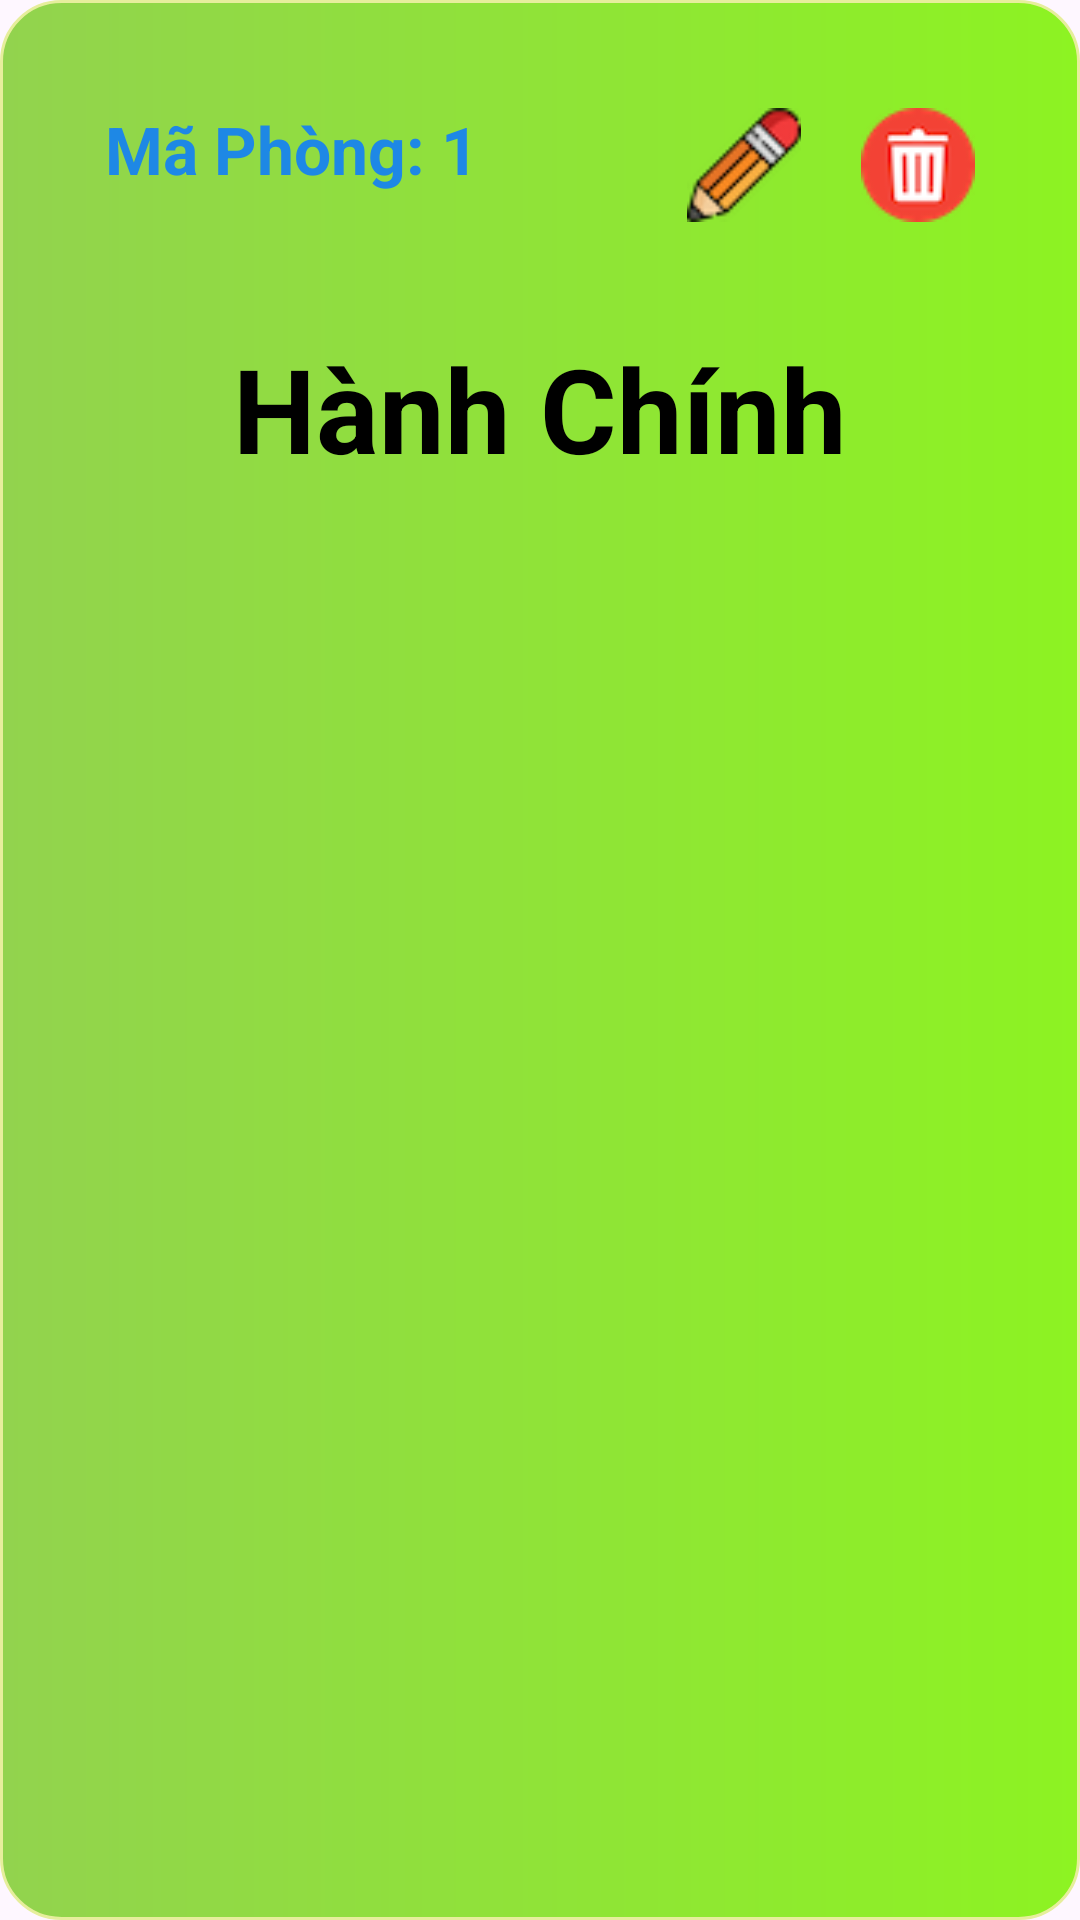

Where icons sit on this 1080px x 1920px app screen, as (x1=x1, y1=y1, x2=x2, y2=y2):
bin: (x1=861, y1=108, x2=975, y2=222)
pencill: (x1=687, y1=108, x2=801, y2=222)
